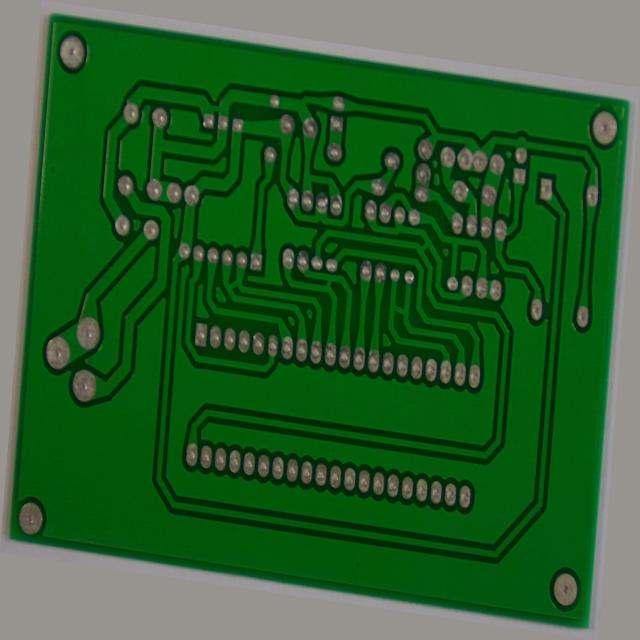short: (390, 280, 417, 314), (179, 78, 206, 111), (212, 279, 238, 310), (412, 205, 435, 233), (314, 263, 336, 291)
